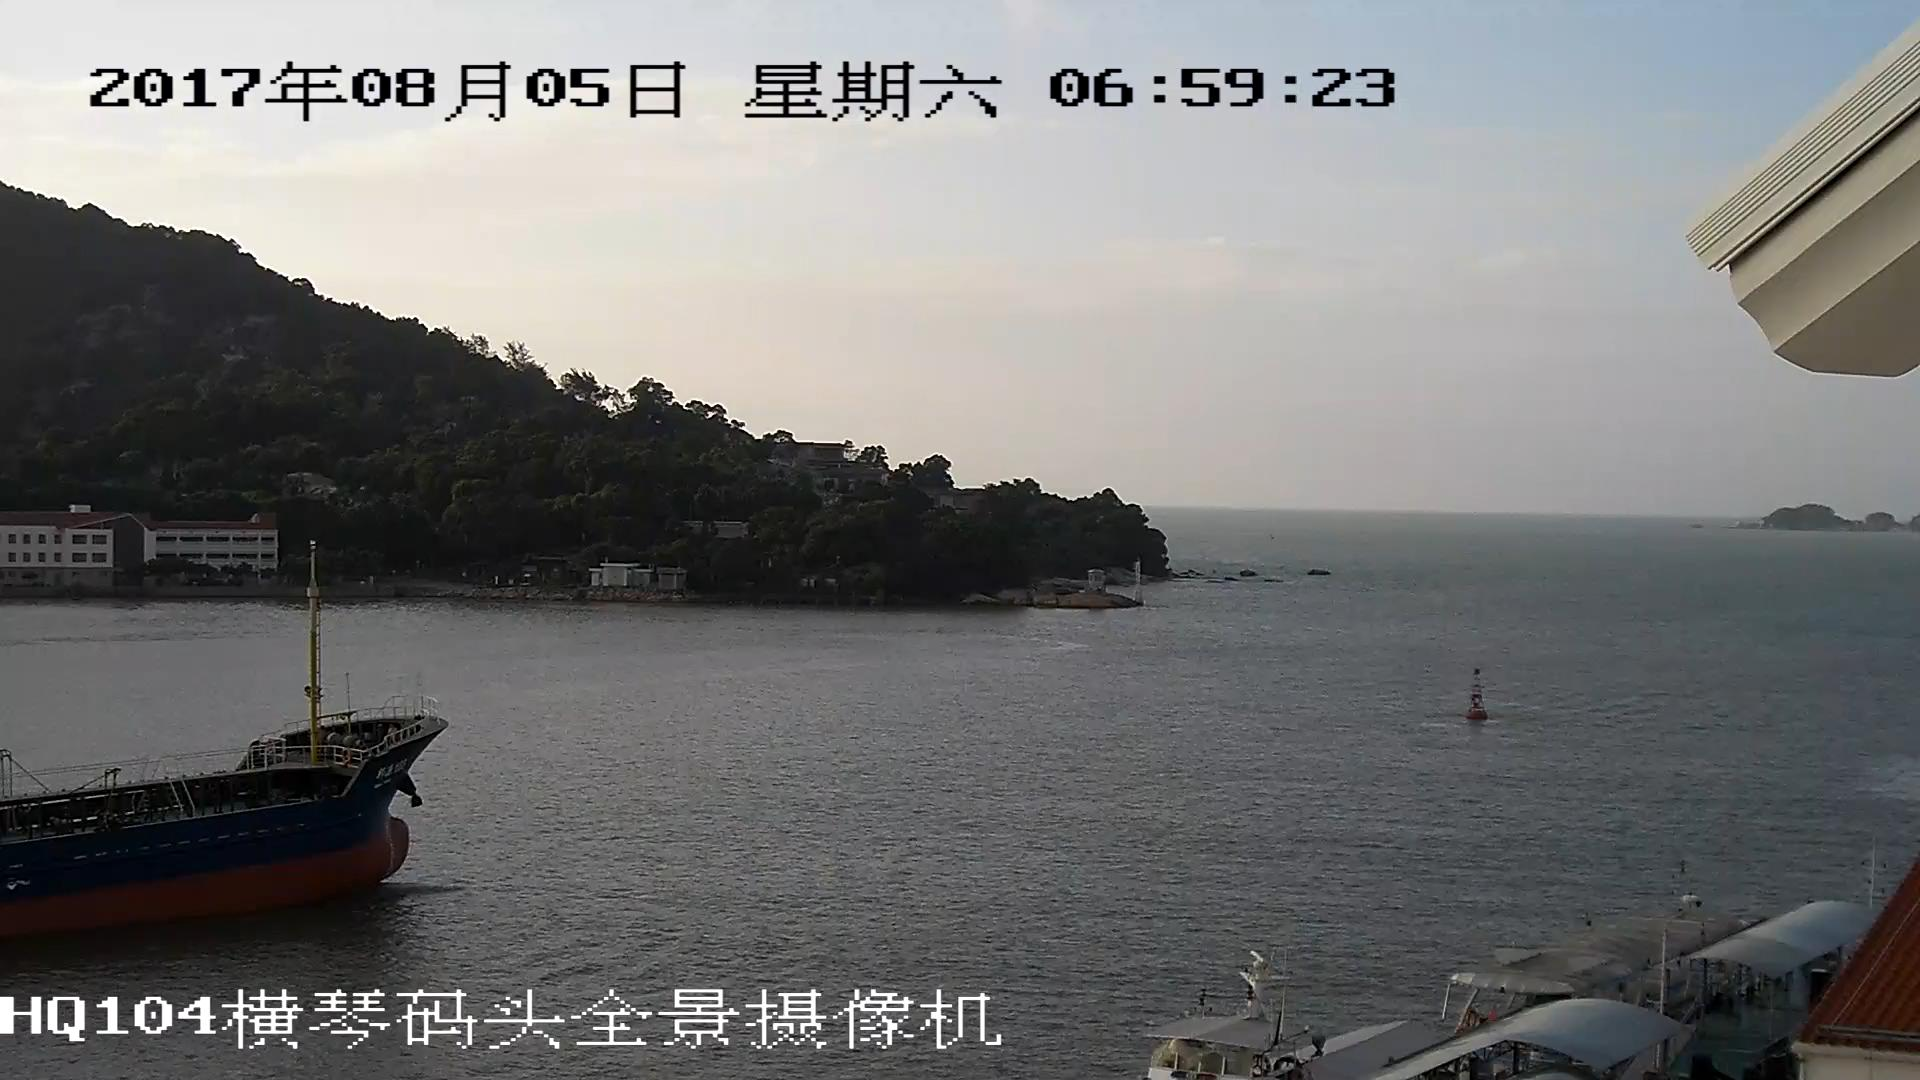general cargo ship: (1, 549, 448, 964)
